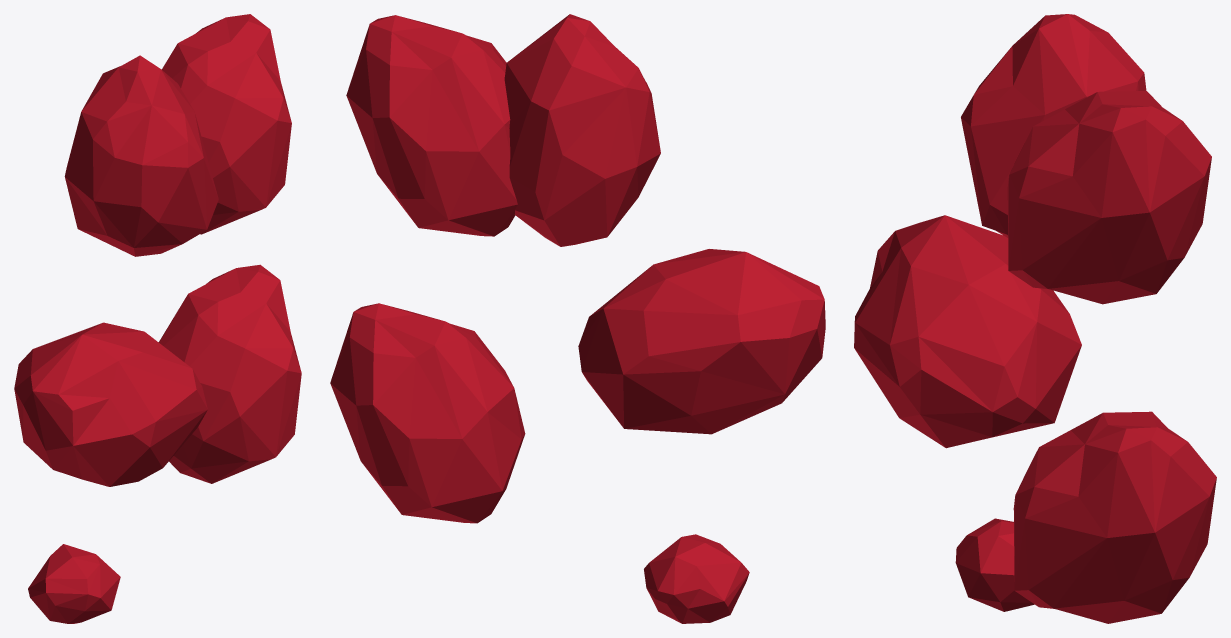
File: tree-dead-leaves-11-041.glb
The picture shows the model from 3 angles, left to right: view 1: azimuth 30°, elevation 25°; view 2: azimuth 150°, elevation 25°; view 3: azimuth 270°, elevation 25°; orthographic projection. The views are drawn at different scales.
Visible parts, largest first — view 1: TREE 11.007_499; view 2: TREE 11.007_499; view 3: TREE 11.007_499.
Part boxes in pixels (x1=…): TREE 11.007_499: x1=14, y1=14, x2=301, y2=623; TREE 11.007_499: x1=330, y1=14, x2=825, y2=623; TREE 11.007_499: x1=854, y1=14, x2=1216, y2=623.
Bounding box in the file's own units: 1.25 × 1.85 × 0.9391.
